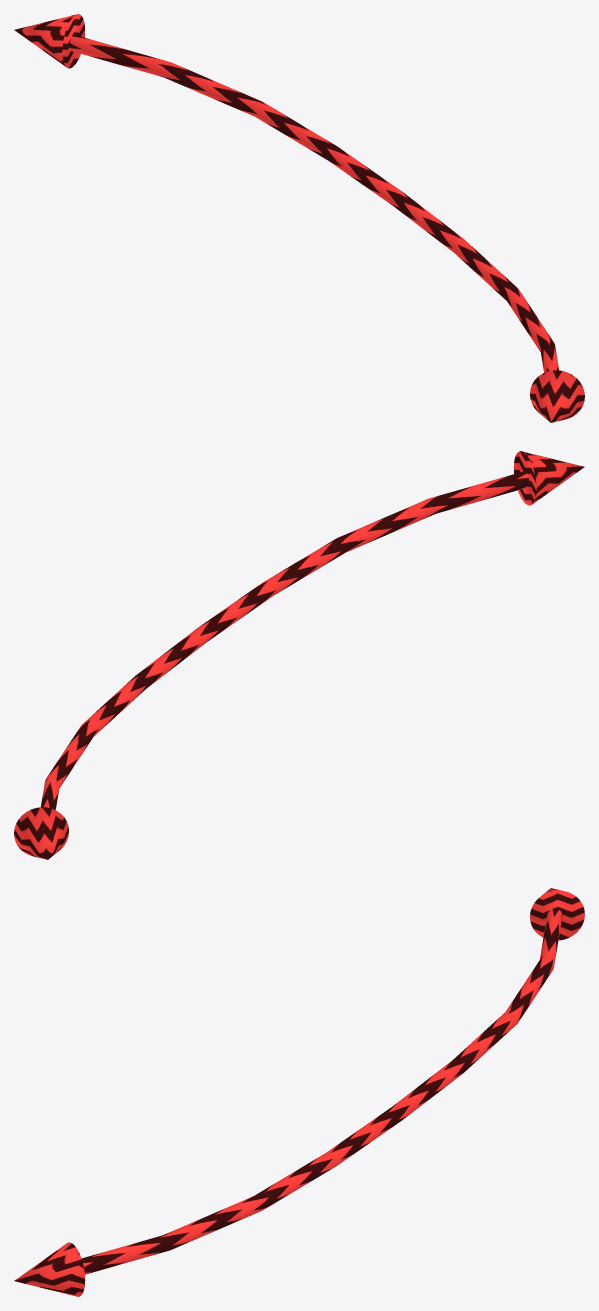
The model's file is Spotlight_RedArrow_Lat.glb.
The picture shows the model from 3 angles, top to bottom: view 1: azimuth 30°, elevation 25°; view 2: azimuth 150°, elevation 25°; view 3: azimuth 330°, elevation 25°; orthographic projection.
Parts seen in each view (by area): view 1: Cylinder.012, Cone.023, Cone.006; view 2: Cylinder.012, Cone.006, Cone.023; view 3: Cylinder.012, Cone.023, Cone.006.
Part boxes in pixels (x1,y1,x2,y2): Cylinder.012: (69, 34, 558, 372); Cone.023: (530, 370, 584, 422); Cone.006: (14, 14, 85, 68); Cylinder.012: (41, 471, 528, 809); Cone.006: (14, 807, 68, 859); Cone.023: (513, 451, 584, 505); Cylinder.012: (81, 908, 562, 1274); Cone.023: (14, 1242, 85, 1296); Cone.006: (530, 888, 584, 940).
Bounding box in the file's own units: 0.2303 × 0.0901 × 1.75.
Materials: 1 (1 with a texture image).
